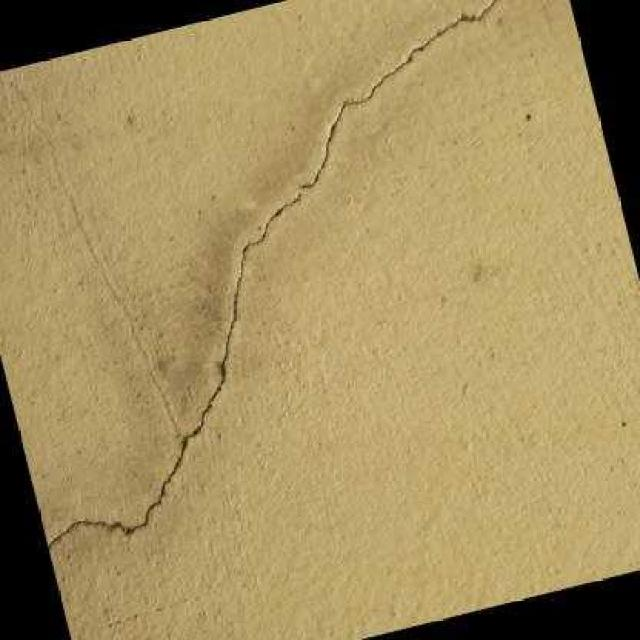D00: (46, 0, 496, 550)
